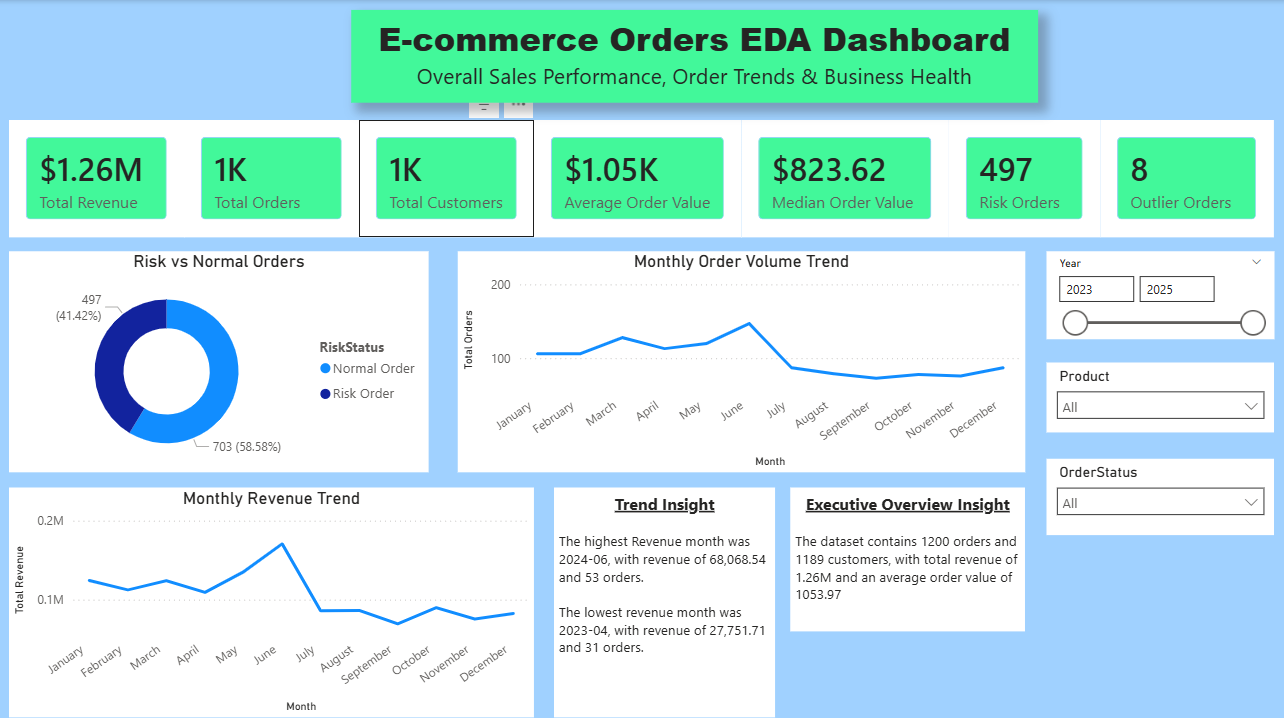

The page's visual inventory and layout, read from the dashboard file:
{"tool":"powerbi","page":{"name":"Executive Overview","canvas":[1280,720],"ordinal":0},"visuals":[{"type":"cardVisual","fields":{"Data":["Orders.Total Revenue"]},"box":[10,119.4,174.2,116.9],"z":0},{"type":"cardVisual","fields":{"Data":["Orders.Total Orders"]},"box":[184.1,119.4,174.2,116.9],"z":1000},{"type":"cardVisual","fields":{"Data":["Orders.Total Customers"]},"box":[358.3,119.4,174.2,116.9],"z":2000},{"type":"cardVisual","fields":{"Data":["Orders.Average Order Value"]},"box":[532.4,119.4,206.5,116.9],"z":3000},{"type":"cardVisual","fields":{"Data":["Orders.Risk Orders"]},"box":[945.4,119.4,150.5,116.9],"z":4000},{"type":"cardVisual","fields":{"Data":["Orders.Outlier Orders"]},"box":[1095.9,119.4,172.9,116.9],"z":5000},{"type":"cardVisual","fields":{"Data":["Orders.Median Order Value"]},"box":[738.9,119.4,206.5,116.9],"z":6000},{"type":"lineChart","title":"Monthly Revenue Trend","fields":{"Category":["Orders.YearMonth.Variation.Date Hierarchy.Month"],"Y":["Orders.Total Revenue"]},"box":[10,485.1,522.5,228.9],"z":7000},{"type":"lineChart","title":"Monthly Order Volume Trend","fields":{"Category":["Orders.YearMonth.Variation.Date Hierarchy.Month"],"Y":["Orders.Total Orders"]},"box":[456.5,250,564.8,220.2],"z":8000},{"type":"donutChart","title":"Risk vs Normal Orders","fields":{"Category":["Orders.RiskStatus"],"Y":["Orders.Total Orders"]},"box":[10,250,418,220.2],"z":9000},{"type":"slicer","fields":{"Values":["Orders.Year"]},"box":[1042.4,250,226.4,87.1],"z":10000},{"type":"slicer","fields":{"Values":["Orders.Product"]},"box":[1042.4,360.7,226.4,69.7],"z":11000},{"type":"slicer","fields":{"Values":["Orders.OrderStatus"]},"box":[1042.4,456.5,226.4,75.9],"z":12000},{"type":"textbox","box":[787.4,485.1,233.9,151.8],"z":13000},{"type":"textbox","box":[552.3,485.1,220.2,228.9],"z":14000},{"type":"textbox","box":[350.8,10,682.9,92.1],"z":15000}]}

Visuals, with their boxes in screenshot pixels (x1, y1, x2, y2), scaled from the page's 1280x720 canvas onto the 1284x718 screenshot:
cardVisual - Orders.Total Revenue: locate(10, 119, 185, 236)
cardVisual - Orders.Total Orders: locate(185, 119, 359, 236)
cardVisual - Orders.Total Customers: locate(359, 119, 534, 236)
cardVisual - Orders.Average Order Value: locate(534, 119, 741, 236)
cardVisual - Orders.Risk Orders: locate(948, 119, 1099, 236)
cardVisual - Orders.Outlier Orders: locate(1099, 119, 1273, 236)
cardVisual - Orders.Median Order Value: locate(741, 119, 948, 236)
"Monthly Revenue Trend" lineChart: locate(10, 484, 534, 712)
"Monthly Order Volume Trend" lineChart: locate(458, 249, 1024, 469)
"Risk vs Normal Orders" donutChart: locate(10, 249, 429, 469)
slicer - Orders.Year: locate(1046, 249, 1273, 336)
slicer - Orders.Product: locate(1046, 360, 1273, 429)
slicer - Orders.OrderStatus: locate(1046, 455, 1273, 531)
textbox: locate(790, 484, 1024, 635)
textbox: locate(554, 484, 775, 712)
textbox: locate(352, 10, 1037, 102)
